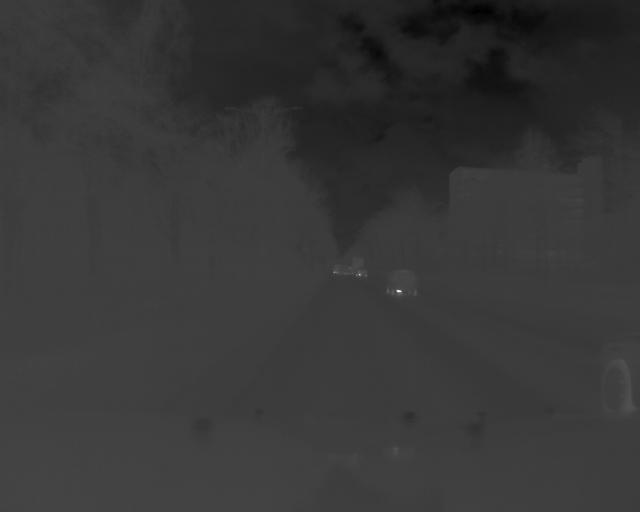car: (382, 266, 421, 300), (356, 263, 368, 279)
